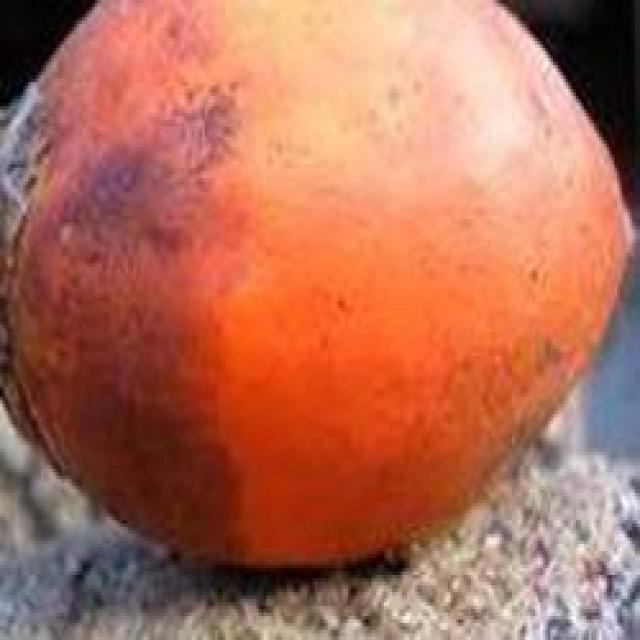good: (0, 0, 637, 578)
